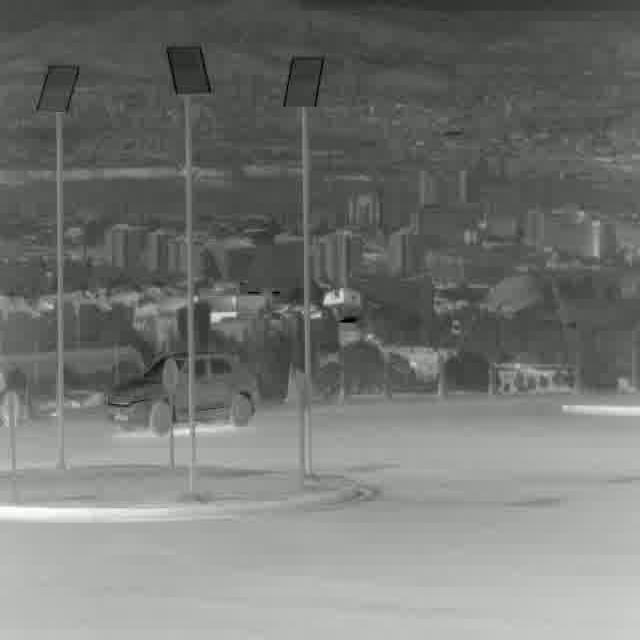Car: (107, 352, 256, 436)
